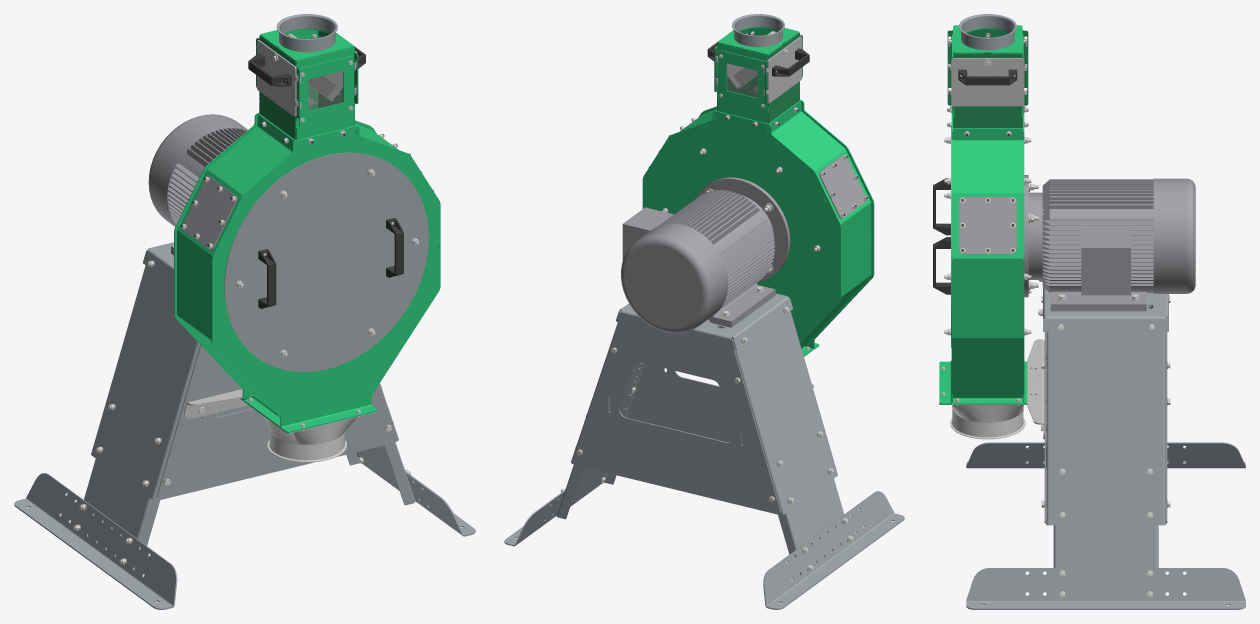
File: RVO-554.glb
3 views of the same model, side by side, from view 1: azimuth 30°, elevation 25°; view 2: azimuth 150°, elevation 25°; view 3: azimuth 270°, elevation 25° (orthographic). The views are drawn at different scales.
Parts seen in each view (by area): view 1: Volumenkörper1 (×22), Volumenkörper2 (×3); view 2: Volumenkörper1 (×18), Volumenkörper2 (×2); view 3: Volumenkörper1 (×15), Volumenkörper2 (×4).
Boxes of the visible parts, x1=… form: Volumenkörper1 (×22): x1=14, y1=14, x2=475, y2=609; Volumenkörper2 (×3): x1=184, y1=35, x2=301, y2=419; Volumenkörper1 (×18): x1=504, y1=14, x2=904, y2=609; Volumenkörper2 (×2): x1=763, y1=32, x2=802, y2=123; Volumenkörper1 (×15): x1=933, y1=14, x2=1245, y2=609; Volumenkörper2 (×4): x1=947, y1=29, x2=1044, y2=439.
Size of the model in its own units: 1 by 1.61 by 0.8949.
Materials: 43 (9 with a texture image).
